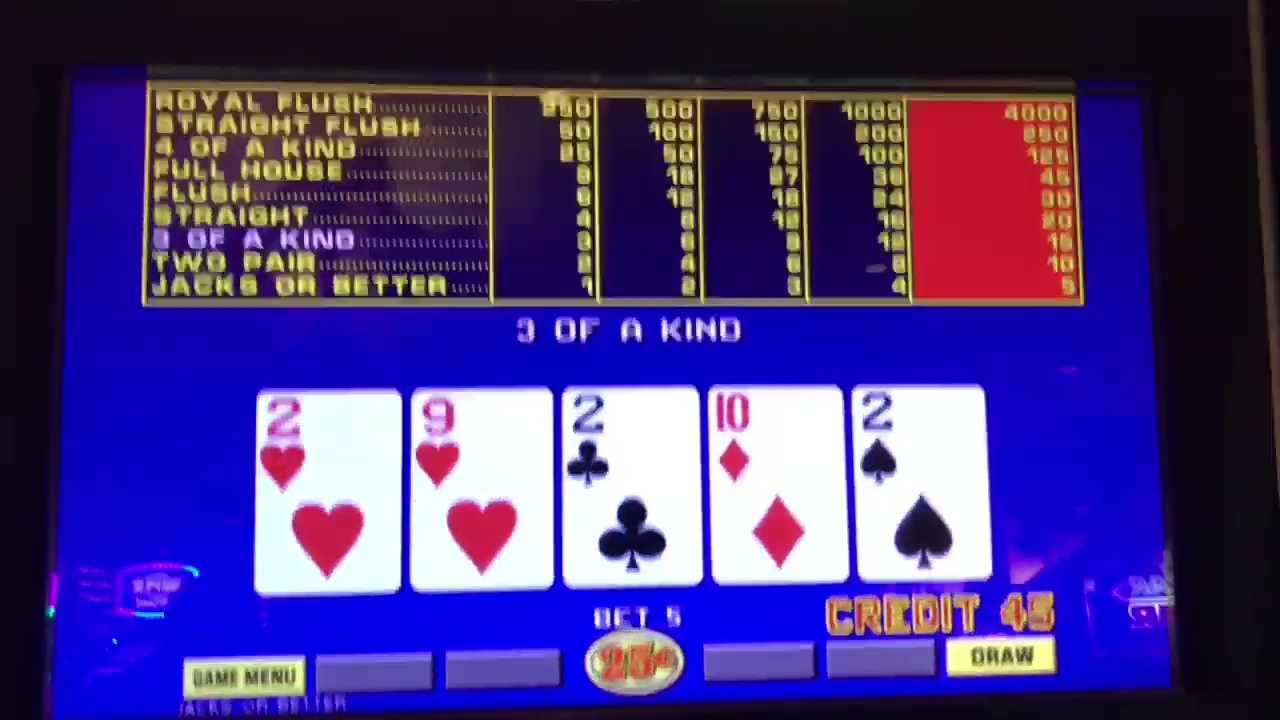C2: (566, 391, 702, 487)
DT: (714, 388, 841, 486)
H2: (259, 394, 396, 491)
H9: (415, 390, 548, 487)
S2: (857, 389, 988, 483)
